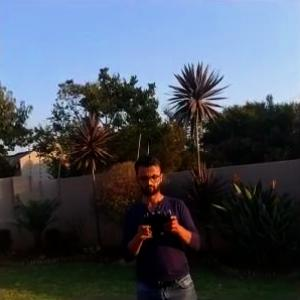follow: (118, 145, 209, 299)
